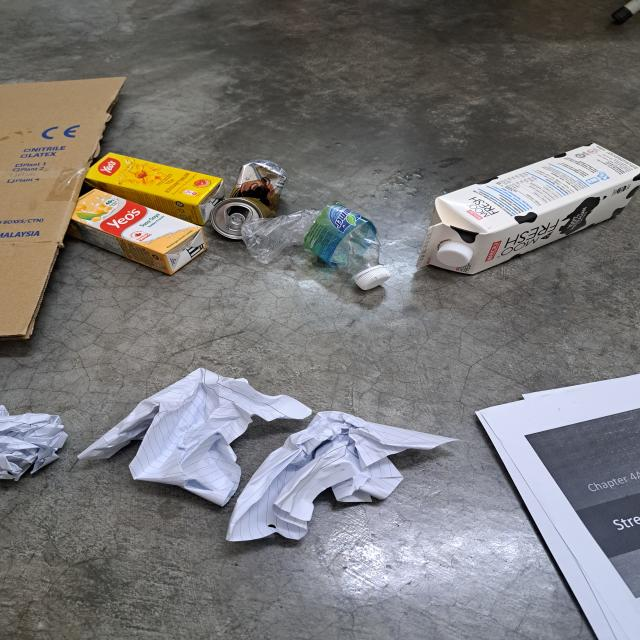can: (211, 158, 289, 238)
cardboard: (0, 75, 127, 345)
drink carton: (415, 142, 640, 276), (68, 188, 208, 275), (83, 152, 224, 226)
paper: (475, 371, 640, 640), (78, 369, 312, 505), (227, 411, 462, 543), (0, 403, 70, 479)
plastic bottle: (240, 206, 380, 276)
plastic bottle cap: (437, 242, 473, 268), (354, 268, 391, 290)
pop tab: (227, 213, 246, 233)
